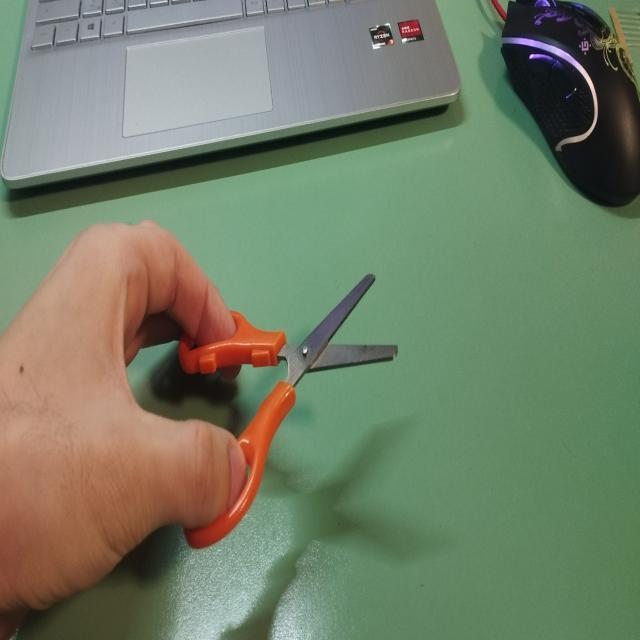tesoura: (172, 264, 402, 558)
